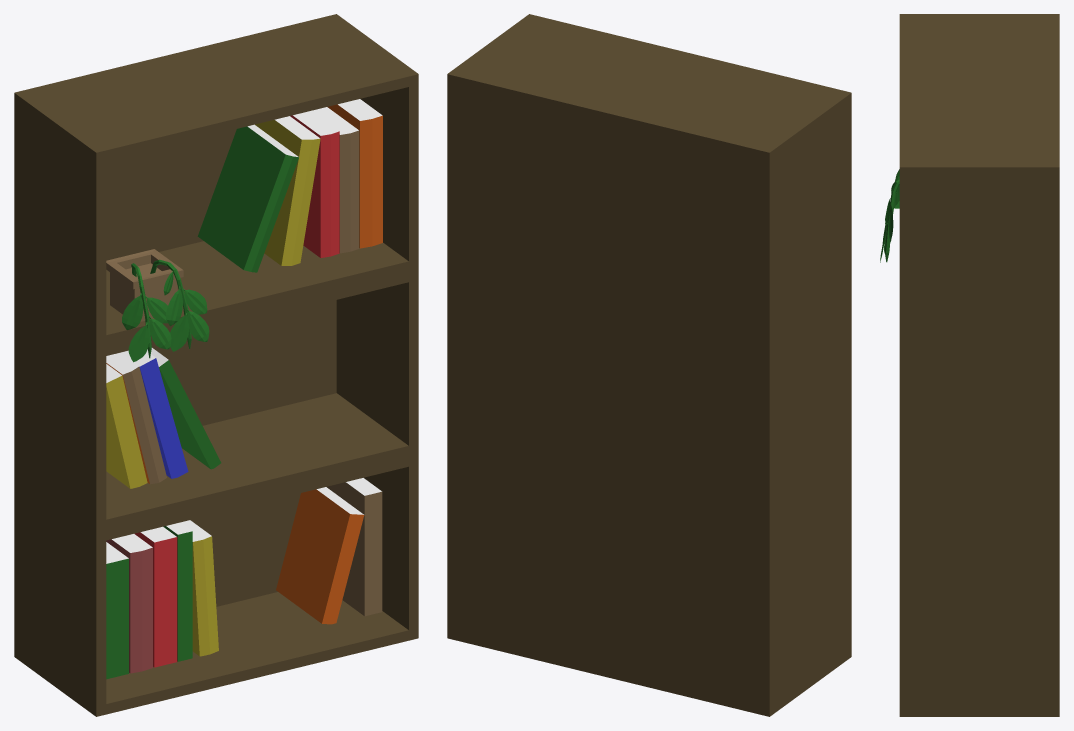
File: BooksShelf_02.obj
3 renders of one model, left to right at view 1: azimuth 30°, elevation 25°; view 2: azimuth 150°, elevation 25°; view 3: azimuth 270°, elevation 25°, orthographic. The views are drawn at different scales.
Parts seen in each view (by area): view 1: BookShelf02; view 2: BookShelf02; view 3: BookShelf02.
Part boxes in pixels (left/top/right/bottom): BookShelf02: left=14, top=14, right=418, bottom=716; BookShelf02: left=447, top=14, right=851, bottom=716; BookShelf02: left=880, top=14, right=1059, bottom=716.
Bounding box in the file's own units: 4.53 × 7.58 × 2.24.
